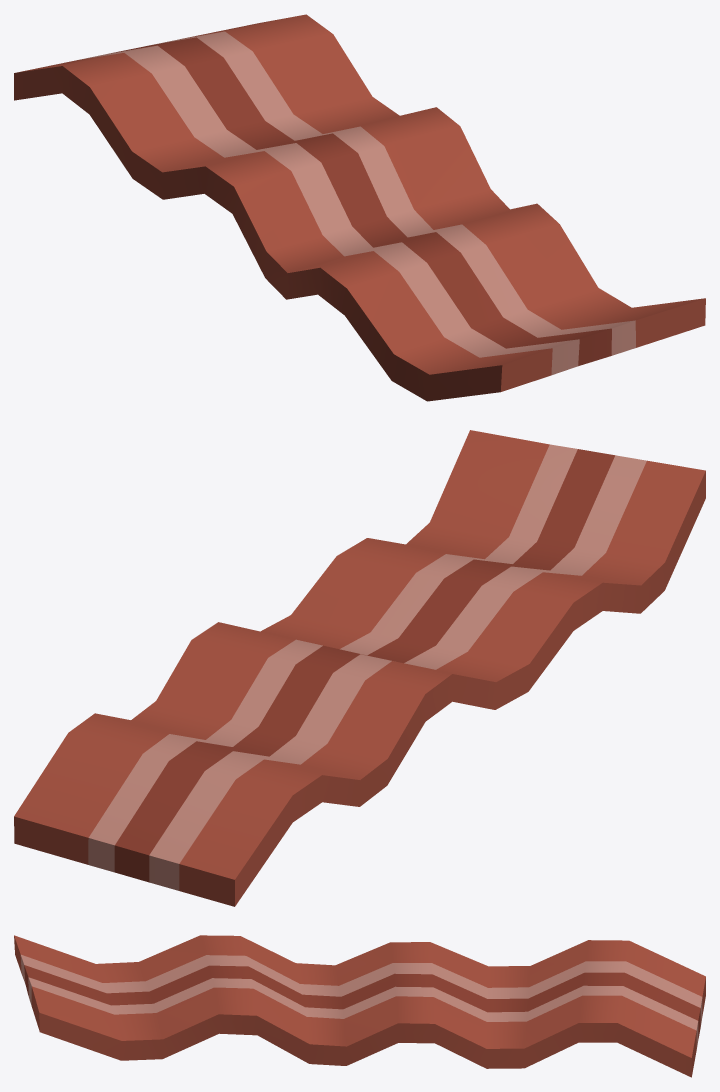
The model's file is Bacon_01.fbx.
The picture shows the model from 3 angles, top to bottom: view 1: azimuth 30°, elevation 25°; view 2: azimuth 150°, elevation 25°; view 3: azimuth 270°, elevation 25°; orthographic projection. The views are drawn at different scales.
Parts seen in each view (by area): view 1: Bacon_01; view 2: Bacon_01; view 3: Bacon_01.
Boxes of the visible parts, left/top/right/bottom form: Bacon_01: left=14, top=14, right=705, bottom=401; Bacon_01: left=14, top=430, right=705, bottom=906; Bacon_01: left=14, top=935, right=705, bottom=1077.
Size of the model in its own units: 0.0348 by 0.0114 by 0.1143.
